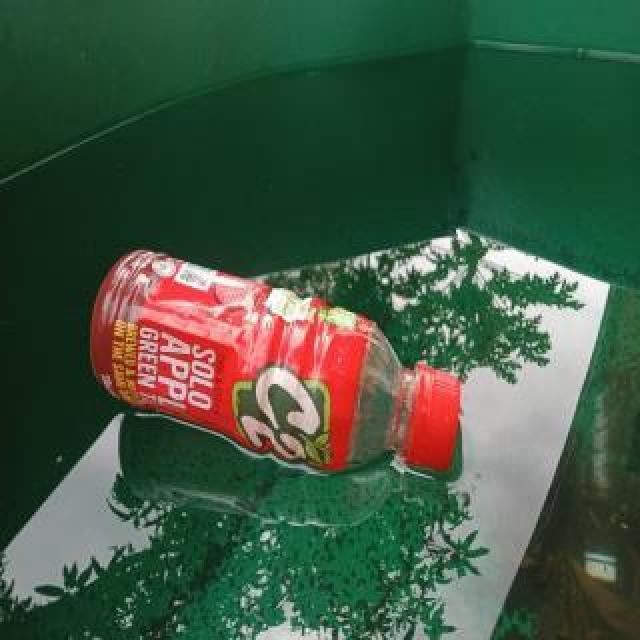bottle: (88, 242, 464, 480)
